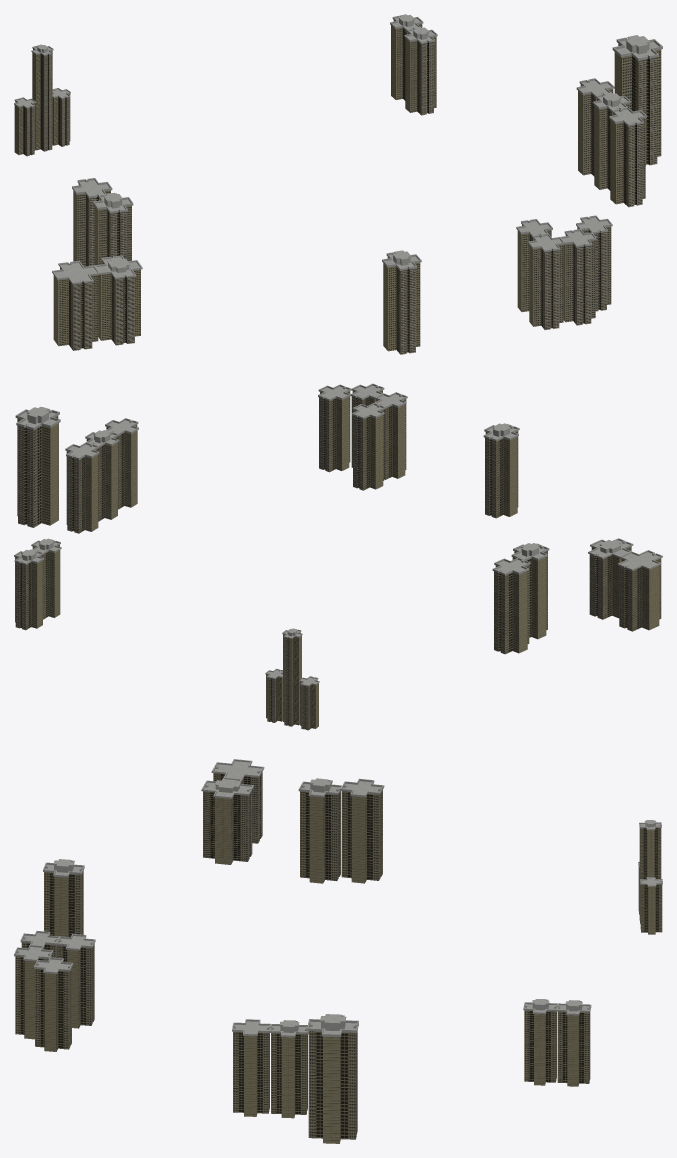
Rendered from Mexico_track_building_city_03.dae.
3 views of the same model, one above another, from view 1: azimuth 30°, elevation 25°; view 2: azimuth 150°, elevation 25°; view 3: azimuth 270°, elevation 25° (orthographic). The views are drawn at different scales.
Visible parts, largest first — view 1: building_city_08, building_city_13, building_city_16, building_city_12, building_city_15, building_city_07, building_city_10, building_city_06, building_city_02, building_city_19, building_city_01, building_city_17 (+7 smaller); view 2: building_city_08, building_city_19, building_city_13, building_city_16, building_city_17, building_city_03, building_city_18, building_city_12, building_city_05, building_city_07, building_city_02, building_city_01 (+7 smaller); view 3: building_city_08, building_city_19, building_city_02, building_city_12, building_city_15, building_city_01, building_city_18, building_city_16, building_city_05, building_city_06, building_city_03, building_city_10 (+4 smaller).
Boxes of the visible parts, <box> form: building_city_08: <box>612,35,662,165</box>; building_city_13: <box>52,260,99,350</box>; building_city_16: <box>382,250,421,354</box>; building_city_12: <box>95,255,142,345</box>; building_city_15: <box>609,107,646,207</box>; building_city_07: <box>528,233,564,329</box>; building_city_10: <box>560,229,596,325</box>; building_city_06: <box>404,27,437,115</box>; building_city_02: <box>93,192,133,265</box>; building_city_19: <box>72,178,112,266</box>; building_city_01: <box>592,92,630,190</box>; building_city_17: <box>576,78,614,176</box>; building_city_08: <box>15,406,60,527</box>; building_city_19: <box>492,557,530,654</box>; building_city_13: <box>617,550,662,631</box>; building_city_16: <box>483,423,519,518</box>; building_city_17: <box>65,442,99,533</box>; building_city_03: <box>351,403,385,490</box>; building_city_18: <box>318,384,351,472</box>; building_city_12: <box>588,538,633,619</box>; building_city_05: <box>14,549,43,630</box>; building_city_07: <box>374,392,407,479</box>; building_city_02: <box>511,543,549,639</box>; building_city_01: <box>85,430,119,521</box>; building_city_08: <box>307,1014,358,1143</box>; building_city_19: <box>340,778,384,883</box>; building_city_02: <box>298,778,342,883</box>; building_city_12: <box>201,777,253,864</box>; building_city_15: <box>232,1019,270,1116</box>; building_city_01: <box>269,1020,307,1118</box>; building_city_18: <box>34,957,73,1051</box>; building_city_16: <box>43,859,84,937</box>; building_city_05: <box>556,1000,591,1086</box>; building_city_06: <box>523,999,557,1085</box>; building_city_03: <box>56,933,95,1028</box>; building_city_10: <box>14,944,53,1039</box>.
Bounding box in the file's own units: 62.01 × 53.62 × 10.59.
2 materials, 2 textured.
